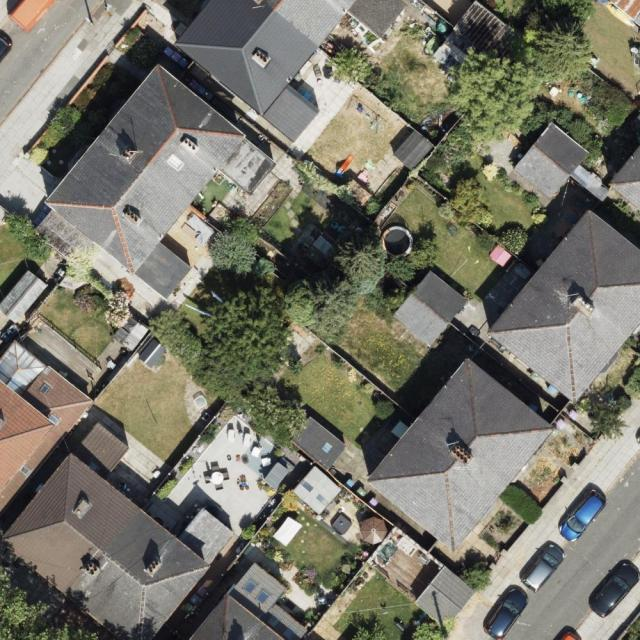roof: (22, 65, 280, 303), (3, 418, 237, 640), (367, 356, 556, 551), (175, 0, 410, 145), (490, 205, 640, 406), (0, 340, 91, 531), (183, 559, 311, 640), (288, 408, 347, 518), (511, 123, 590, 203), (391, 270, 467, 348), (416, 565, 475, 630), (610, 144, 640, 221)
skylight: (166, 153, 184, 173), (255, 589, 271, 604), (243, 580, 259, 594), (18, 465, 32, 479), (37, 383, 52, 396), (317, 494, 332, 506), (47, 412, 60, 425), (322, 443, 335, 455), (303, 480, 314, 492)
